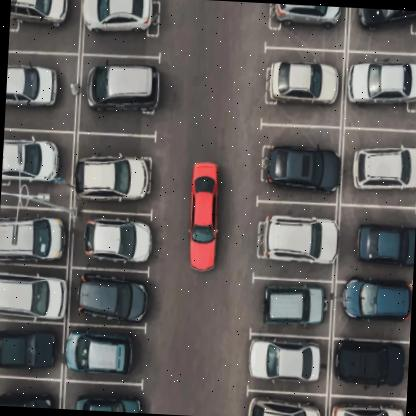Car: (184, 145, 226, 268), (338, 278, 412, 340), (88, 206, 153, 270), (90, 53, 156, 114), (92, 139, 156, 198), (252, 216, 340, 256), (248, 339, 322, 385), (332, 338, 404, 385), (350, 52, 416, 102), (260, 275, 328, 323), (348, 212, 416, 258), (6, 58, 66, 110), (71, 332, 142, 375), (351, 146, 415, 192), (73, 278, 154, 314), (3, 141, 62, 188), (260, 144, 336, 179), (5, 212, 60, 258), (0, 278, 70, 312), (6, 326, 56, 370), (86, 0, 156, 30), (11, 0, 71, 33), (277, 4, 344, 32), (264, 72, 340, 96), (68, 388, 140, 413), (357, 7, 403, 34), (252, 397, 317, 416), (0, 388, 57, 408), (318, 406, 397, 416)
